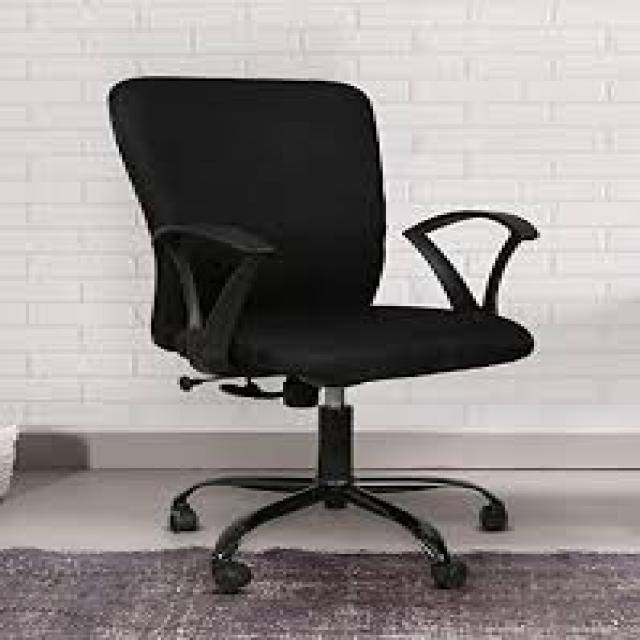chair: (114, 78, 527, 593)
